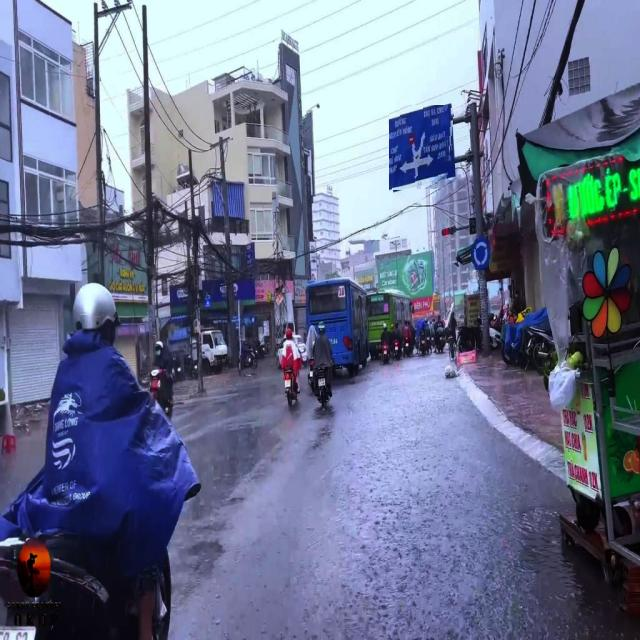khac: (389, 106, 455, 192)
noi_giao_nhau_chay_theo_vong: (471, 236, 492, 270)
